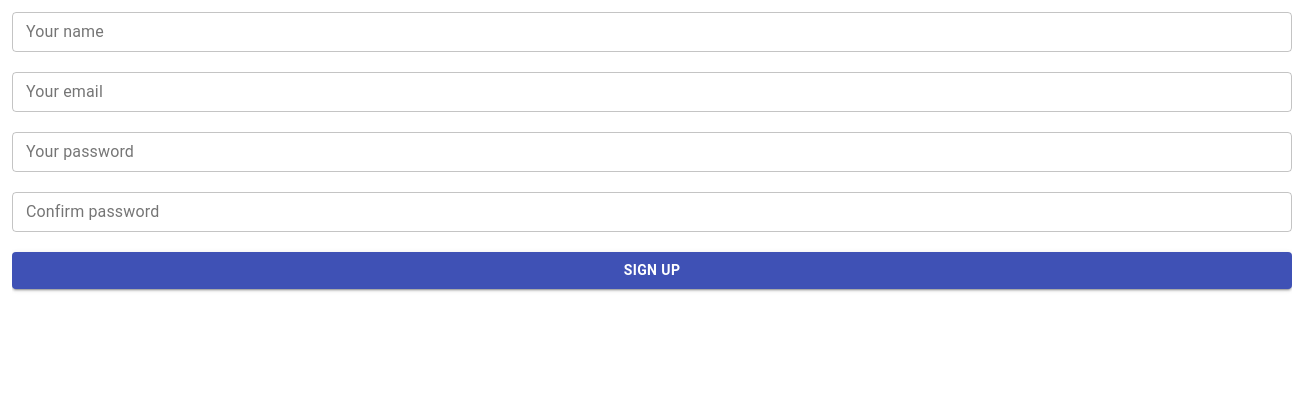
Test: GetStartedForm tests › Show validation error fields
This screenshot has width=1304, height=411.
Type "JohnJohnJohnJohnJohnJohnJohnJohnJohnJohnJohn" into the field labelled "Your name" at (652, 32), box [12,12,1292,52]
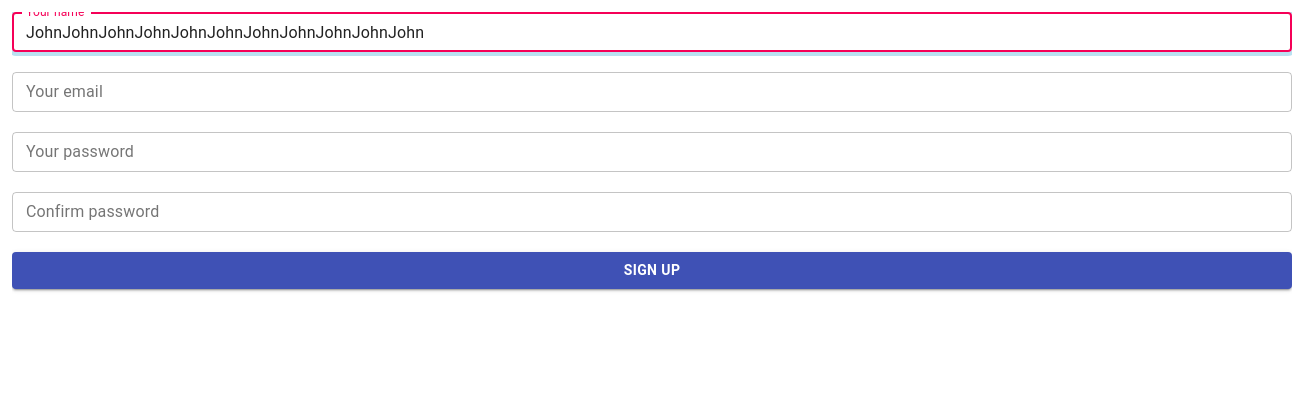
Type "JohnJohnJohnJohnJohnJohnJohnJJohnJohnJohnJohnohnJohnJohJohnJohnJohnnJohnJohnJohnJohnJohnJohnJohnJohnJohnJohn@mail.ru" into the field labelled "Your email" at (652, 92), box [12,72,1292,112]
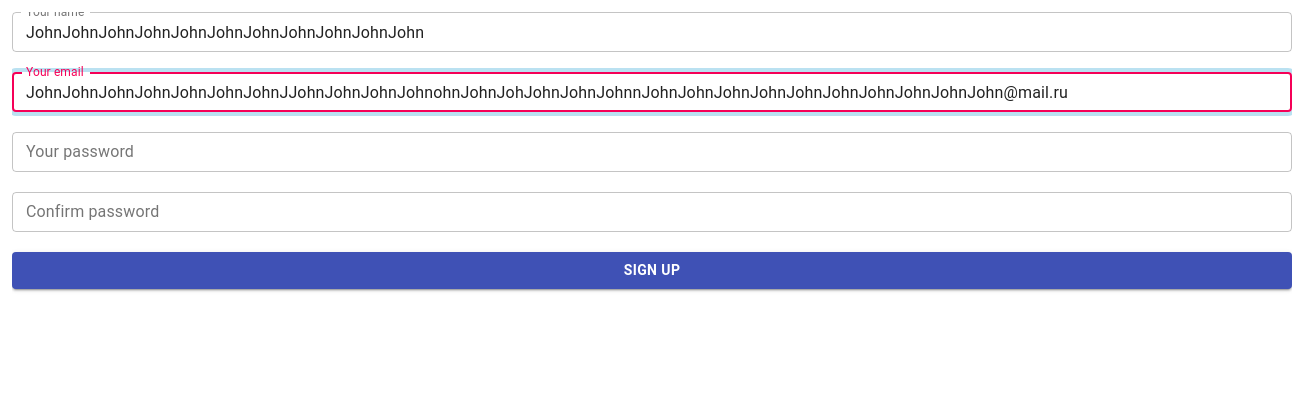
Expected: the password field labelled "Your password" is empty, [12,132,1292,172]
Expected: the password field labelled "Confirm password" is empty, [12,192,1292,232]
Click the button at (652, 270), box [12,252,1292,288]
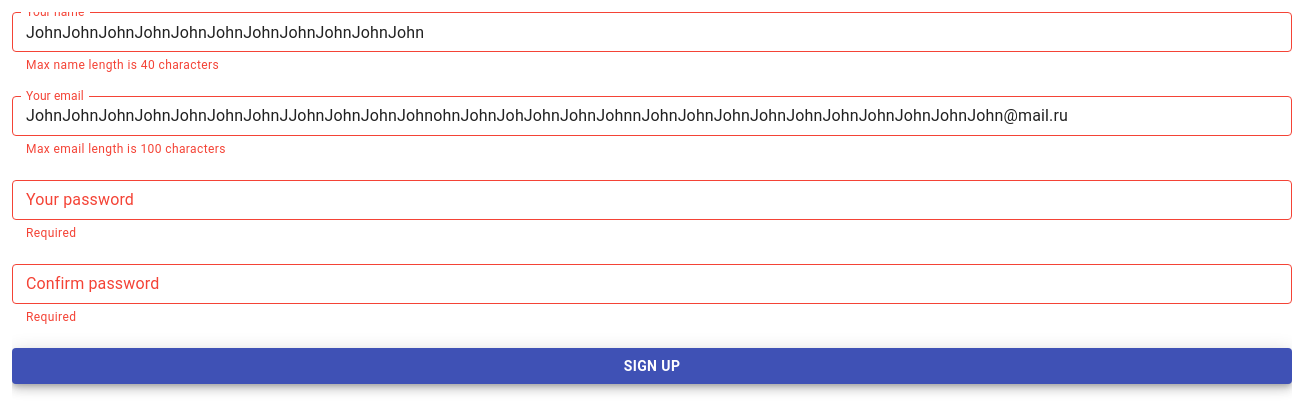
Now the text "Max name length is 40 characters" is shown, box [26,58,219,72]
Now the text "Max email length is 100 characters" is shown, box [26,142,226,156]
Now the text "Required" is shown 2 times, box [26,226,76,240]; [26,310,76,324]
